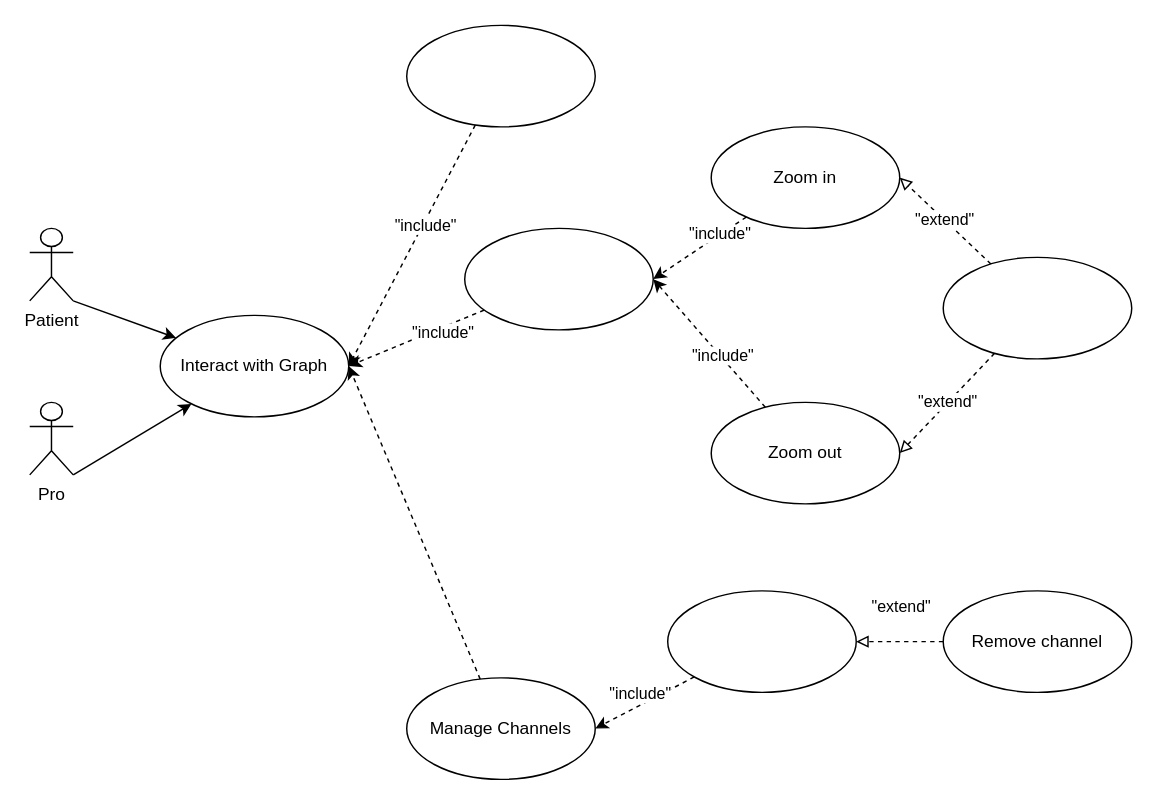
This 1157x805 diagram has some shape labels left out. Each missing label, with the centre of its shape:
"Add channel" goes at point (761, 640).
"Manage zoom" goes at point (558, 278).
"Reset Zoom" goes at point (1037, 307).
"Set Play/Pause" goes at point (500, 75).
